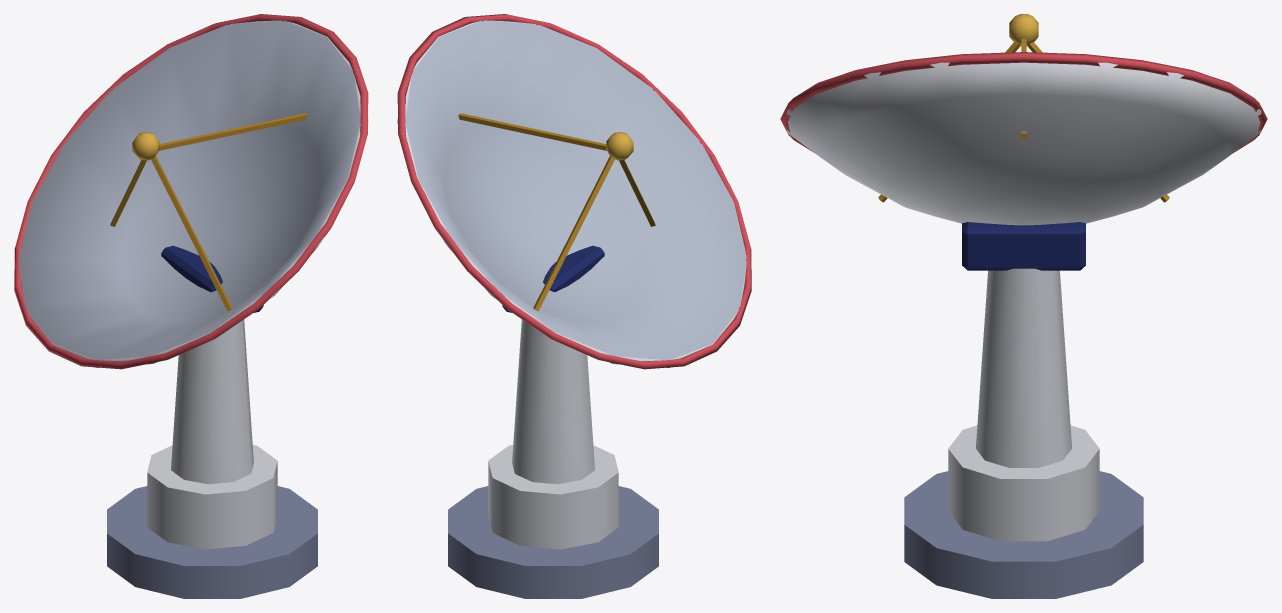
File: observatory-deco2.glb
3 renders of one model, left to right at view 1: azimuth 30°, elevation 25°; view 2: azimuth 150°, elevation 25°; view 3: azimuth 270°, elevation 25°, orthographic. The views are drawn at different scales.
Visible parts, largest first — view 1: observatory-deco2; view 2: observatory-deco2; view 3: observatory-deco2.
Boxes of the visible parts, box(x1,y1,x2,y2) form: observatory-deco2: box(14, 14, 368, 598); observatory-deco2: box(397, 14, 751, 598); observatory-deco2: box(780, 14, 1267, 598).
Size of the model in its own units: 2.71 by 4.49 by 3.54.
